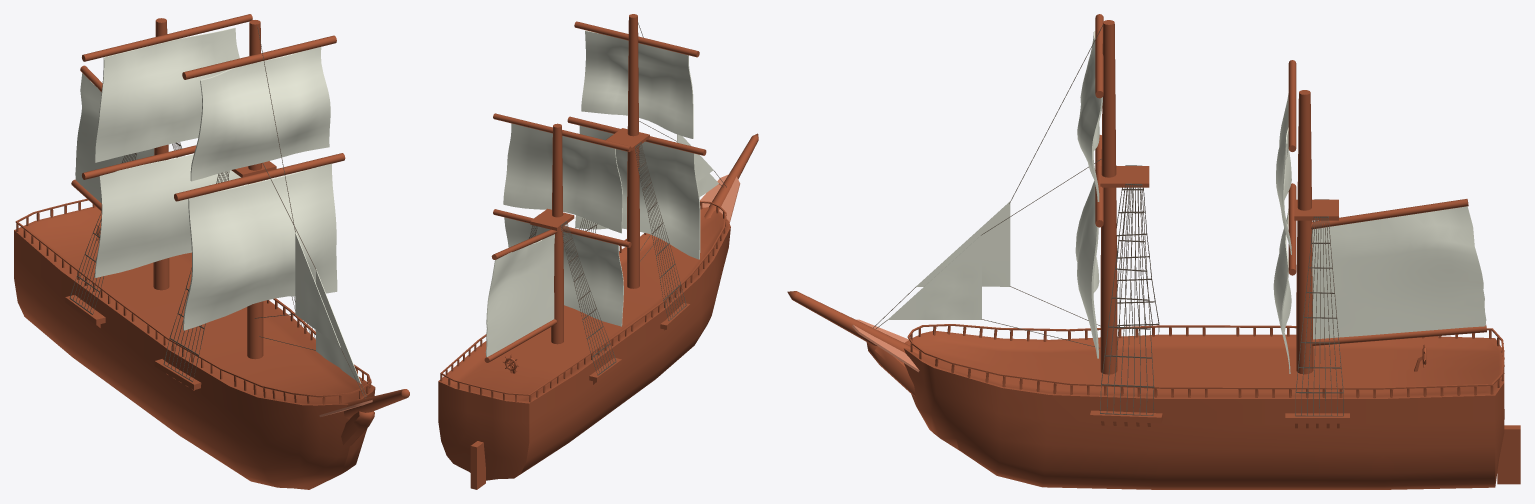
Rendered from Boat_04.fbx.
3 renders of one model, left to right at view 1: azimuth 30°, elevation 25°; view 2: azimuth 150°, elevation 25°; view 3: azimuth 270°, elevation 25°, orthographic. The views are drawn at different scales.
Parts seen in each view (by area): view 1: Casco, VelaFrontal, VelaFrontal_2, VelaSecundaria2, VelaSecundaria, VelaCangreja, Foque, Barandilla, PaloVelaFrontal, MastilFrontal, Foque_2, PaloVelaSecundaria2 (+9 smaller); view 2: Casco, VelaSecundaria2, VelaFrontal_2, VelaFrontal, VelaCangreja, VelaSecundaria, MastilFrontal, MastilSecundario, Obenques, Obenques.003, Barandilla, PaloBaupres (+11 smaller); view 3: Casco, VelaCangreja, MastilFrontal, MastilSecundario, Foque_2, Obenques.001, Barandilla, Foque, Obenques.002, VelaFrontal, VelaFrontal_2, Obenques (+12 smaller).
Boxes of the visible parts, left/top/right/bottom form: Casco: left=14, top=206, right=375, bottom=489; VelaFrontal: left=183, top=163, right=337, bottom=330; VelaFrontal_2: left=190, top=47, right=330, bottom=181; VelaSecundaria2: left=94, top=27, right=239, bottom=162; VelaSecundaria: left=94, top=154, right=243, bottom=277; VelaCangreja: left=75, top=73, right=154, bottom=202; Foque: left=295, top=233, right=340, bottom=347; Barandilla: left=15, top=199, right=371, bottom=397; PaloVelaFrontal: left=174, top=153, right=345, bottom=201; MastilFrontal: left=247, top=20, right=263, bottom=359; Foque_2: left=316, top=269, right=361, bottom=383; PaloVelaSecundaria2: left=82, top=14, right=252, bottom=61; Casco: left=438, top=207, right=730, bottom=480; VelaSecundaria2: left=503, top=123, right=622, bottom=233; VelaFrontal_2: left=581, top=30, right=693, bottom=138; VelaFrontal: left=575, top=125, right=700, bottom=259; VelaCangreja: left=485, top=234, right=554, bottom=357; VelaSecundaria: left=504, top=217, right=623, bottom=326; MastilFrontal: left=627, top=14, right=639, bottom=288; MastilSecundario: left=551, top=123, right=563, bottom=344; Obenques: left=635, top=142, right=686, bottom=320; Obenques.003: left=560, top=221, right=616, bottom=375; Barandilla: left=440, top=201, right=726, bottom=395; PaloBaupres: left=704, top=133, right=758, bottom=219; Casco: left=904, top=331, right=1504, bottom=489; VelaCangreja: left=1312, top=206, right=1486, bottom=339; MastilFrontal: left=1100, top=20, right=1117, bottom=374; MastilSecundario: left=1296, top=90, right=1313, bottom=374; Foque_2: left=888, top=234, right=981, bottom=319; Obenques.001: left=1100, top=183, right=1154, bottom=415; Barandilla: left=907, top=324, right=1504, bottom=389; Foque: left=916, top=201, right=1010, bottom=286; Obenques.002: left=1295, top=216, right=1343, bottom=416; VelaFrontal: left=1075, top=181, right=1099, bottom=358; VelaFrontal_2: left=1077, top=31, right=1102, bottom=201; Obenques: left=1116, top=165, right=1159, bottom=335.
Size of the model in its own units: 360 by 904 by 1307.
